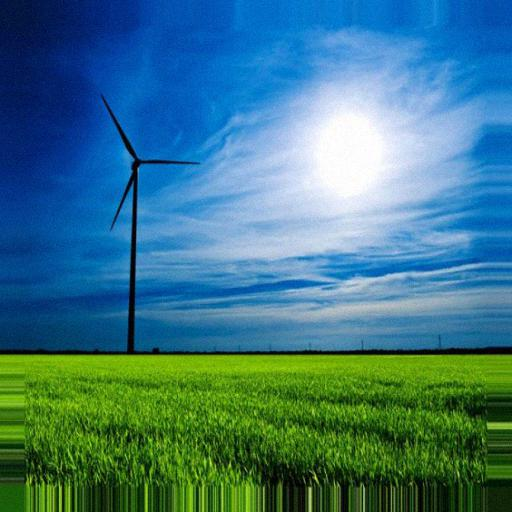wind turbine: (97, 92, 206, 352)
